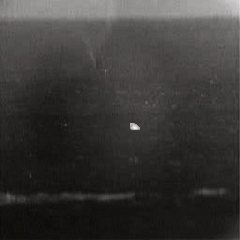Target: (129, 122, 139, 129)
